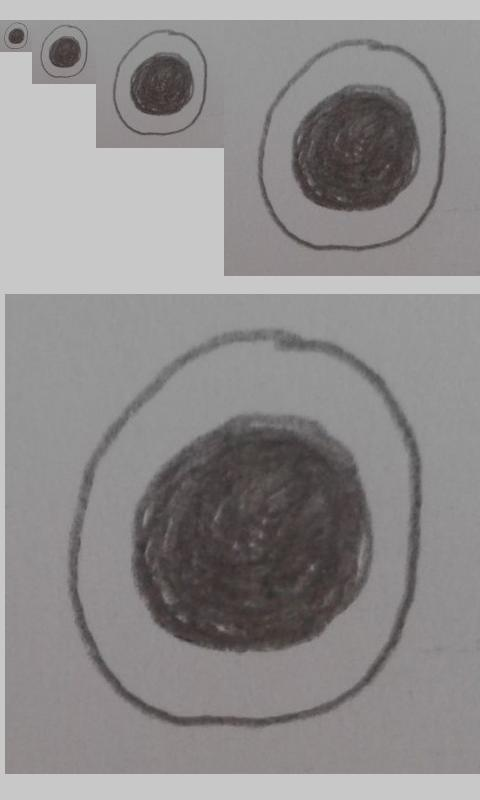radio_button: (65, 328, 423, 731), (255, 37, 449, 253), (112, 29, 208, 137), (39, 24, 89, 79), (3, 22, 29, 50)
